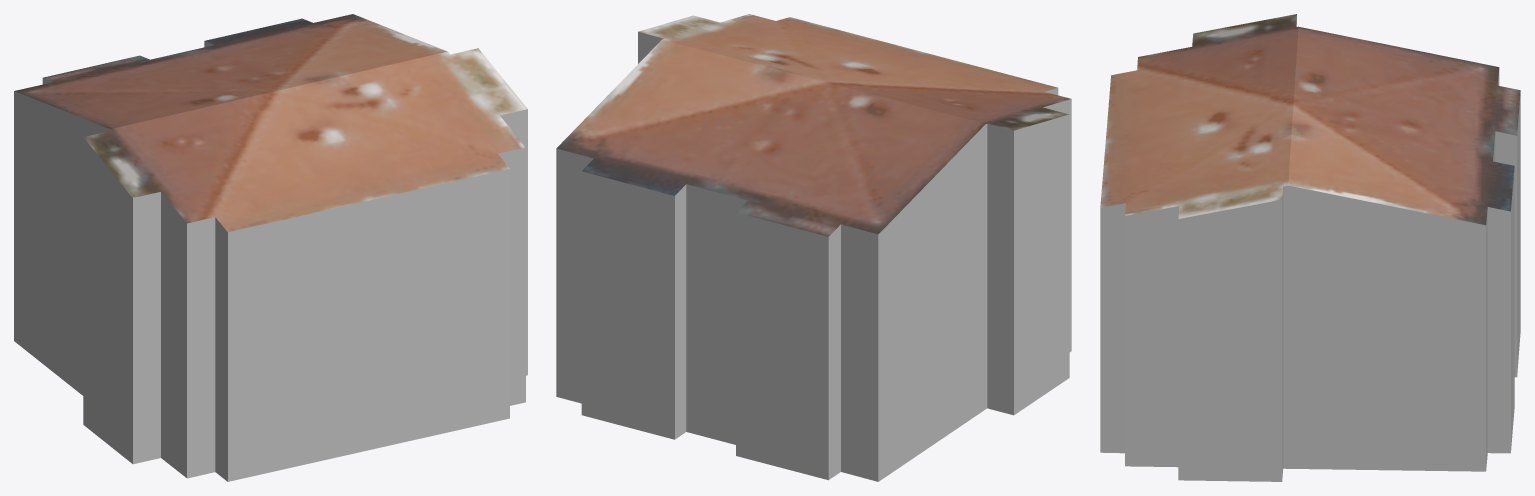
The model's file is DEBW_0010007Tvlc.gltf.
3 renders of one model, left to right at view 1: azimuth 30°, elevation 25°; view 2: azimuth 150°, elevation 25°; view 3: azimuth 270°, elevation 25°, orthographic.
Parts seen in each view (by area): view 1: Z_UP; view 2: Z_UP; view 3: Z_UP.
Part boxes in pixels (x1,y1,x2,y2): Z_UP: [14, 14, 527, 481]; Z_UP: [556, 14, 1071, 481]; Z_UP: [1100, 14, 1520, 481].
Size of the model in its own units: 21.26 by 15.01 by 20.18.
Materials: 2 (1 with a texture image).
